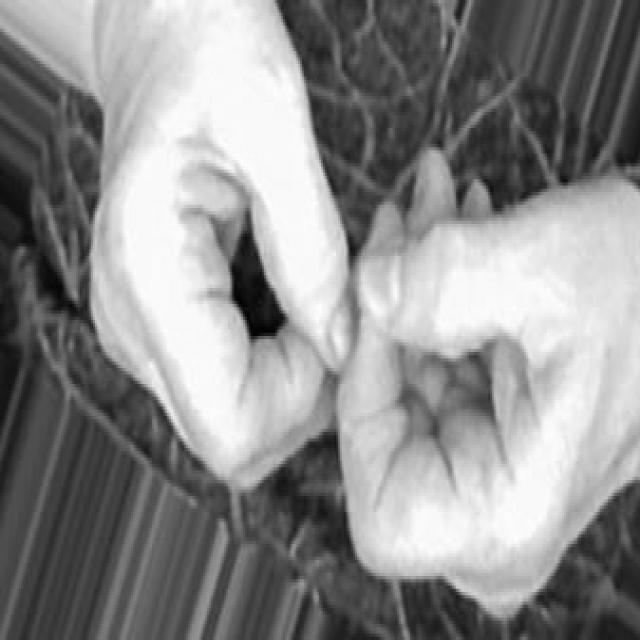B: (90, 2, 640, 616)
